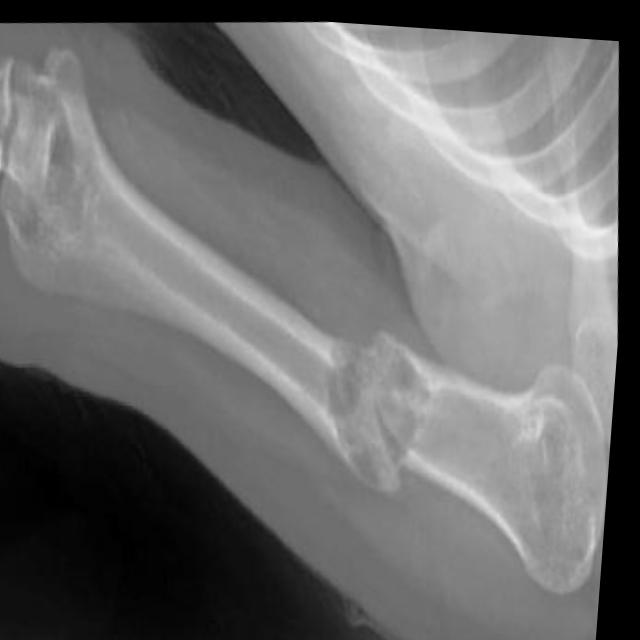fracture: (309, 283, 450, 514)
